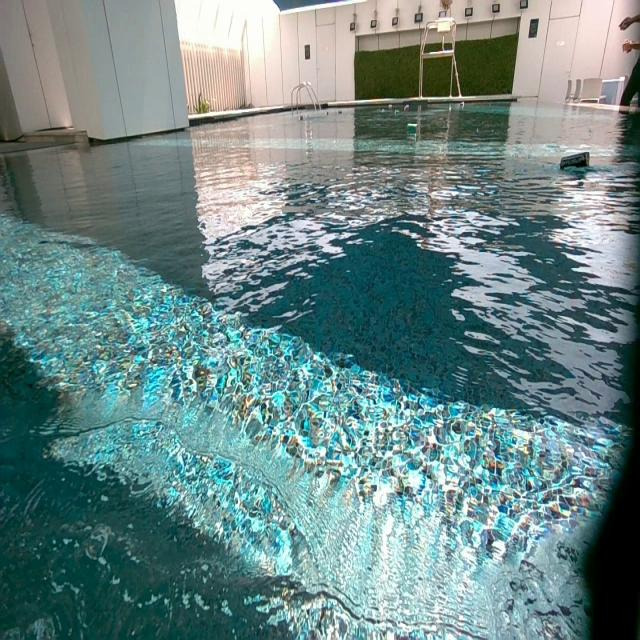Cans: (559, 152, 590, 171), (408, 122, 418, 131), (297, 114, 304, 122), (402, 104, 409, 112), (460, 102, 466, 110), (337, 110, 344, 116), (394, 110, 401, 116), (388, 105, 393, 111), (324, 111, 330, 116), (449, 105, 453, 111)
